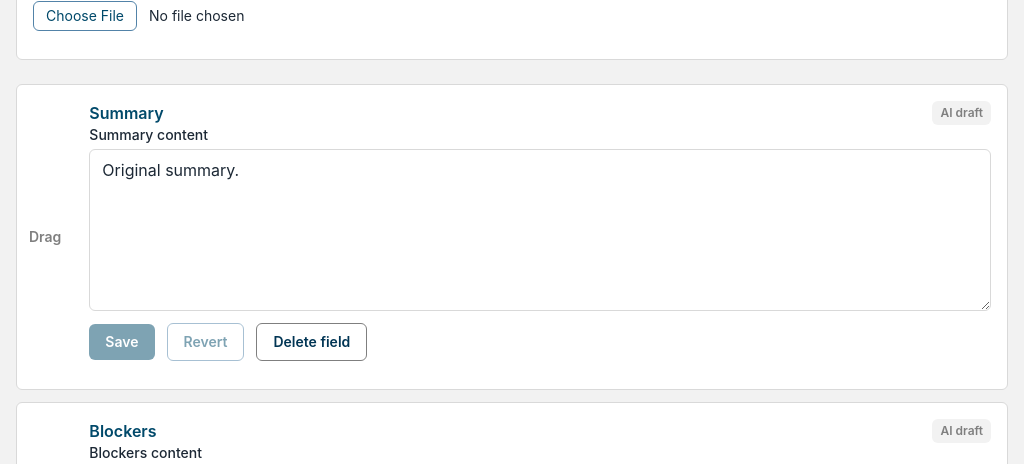
Test: ReportDetailPage › keeps both fields updated when a later save resolves before an earlier one
(page scrolled)
# Start saving field A (Summary) first...
In the text box labelled "Summary content": (540, 230) top-left (89, 149), bottom-right (991, 311), type " A-edit"
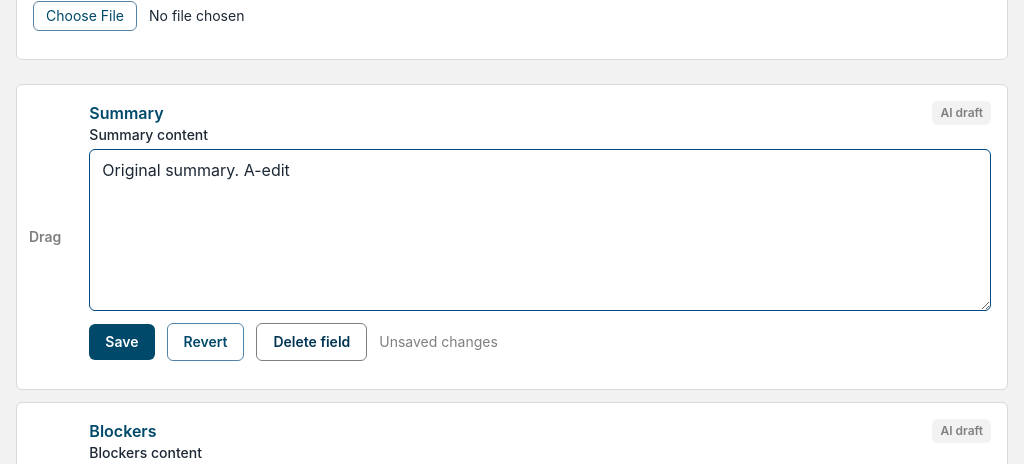
Click the button "Save": click(122, 342) top-left (89, 324), bottom-right (154, 360)
(page scrolled)
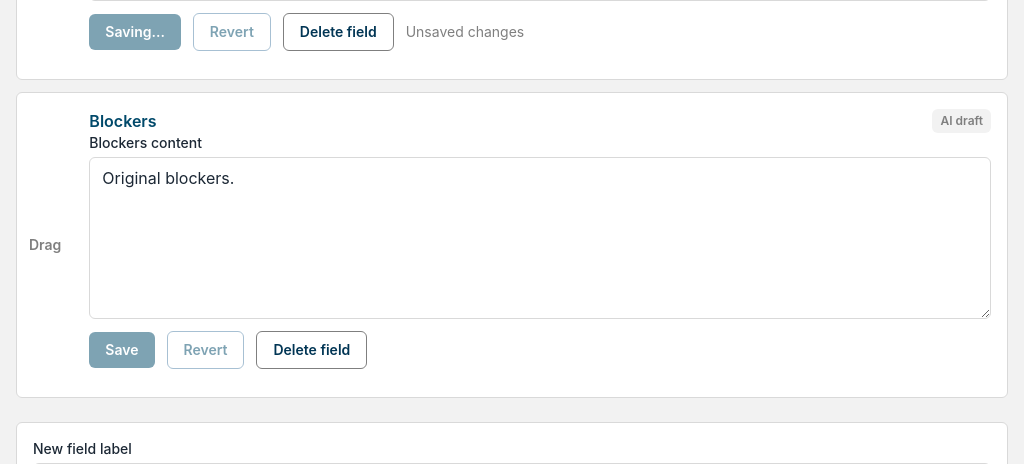
# ...then start saving field B (Blockers) before A's PATCH resolves.
In the text box labelled "Blockers content": (540, 238) top-left (89, 157), bottom-right (991, 319), type " B-edit"
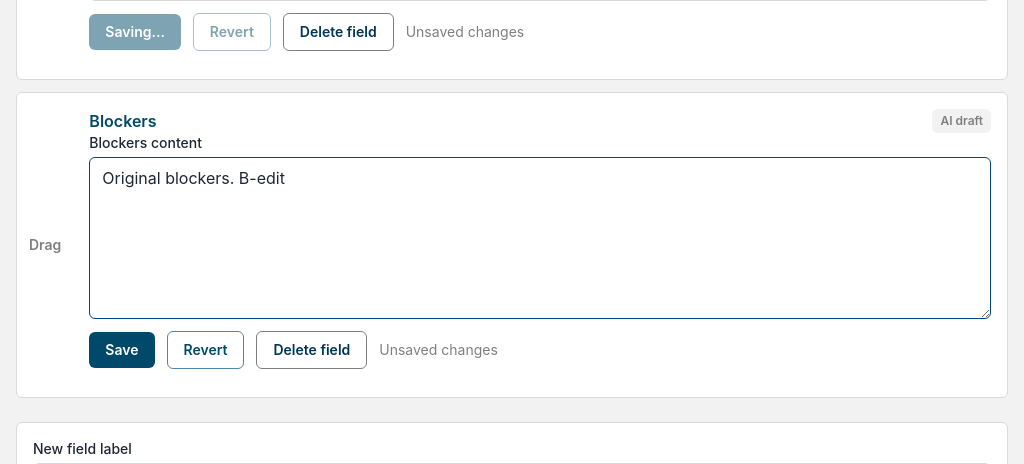
Click the button "Save": click(122, 350) top-left (89, 332), bottom-right (154, 368)
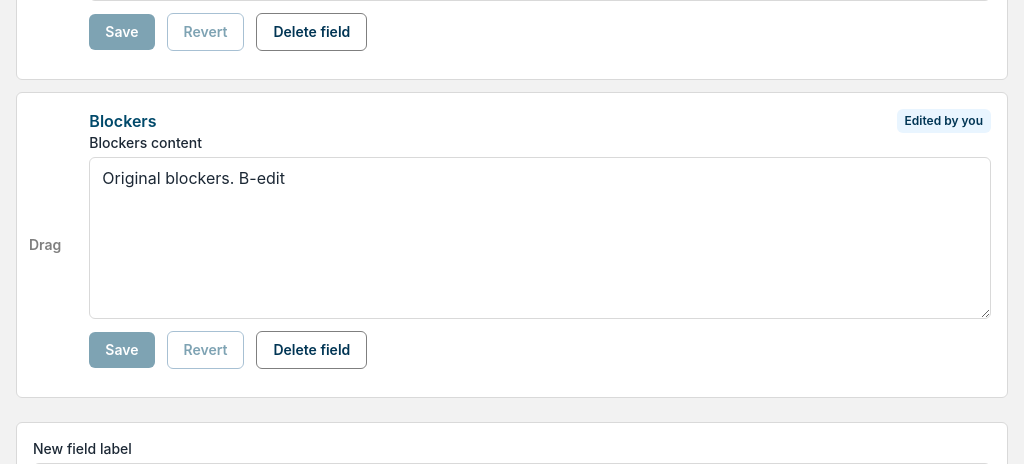
Check: the text box labelled "Blockers content" holds "Original blockers. B-edit", box top-left (89, 157), bottom-right (991, 319)
Check: the text "Edited by you" is shown, box top-left (896, 109), bottom-right (991, 133)
